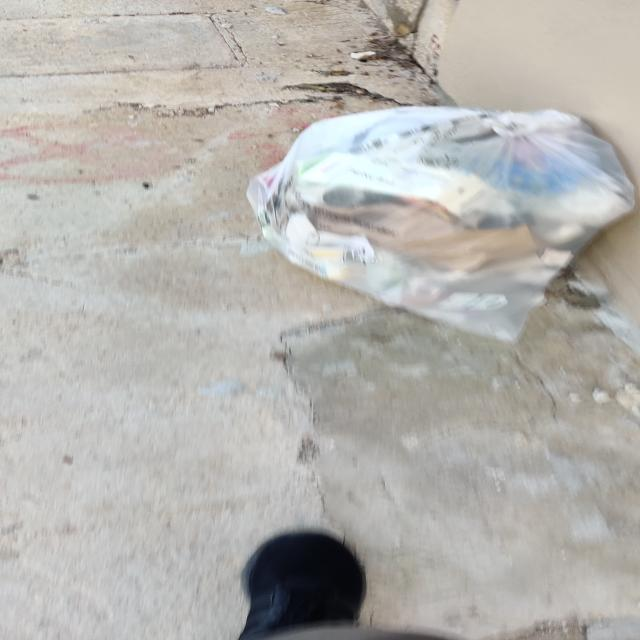Recyclable Material -Grey Bags-: (228, 106, 640, 346)
